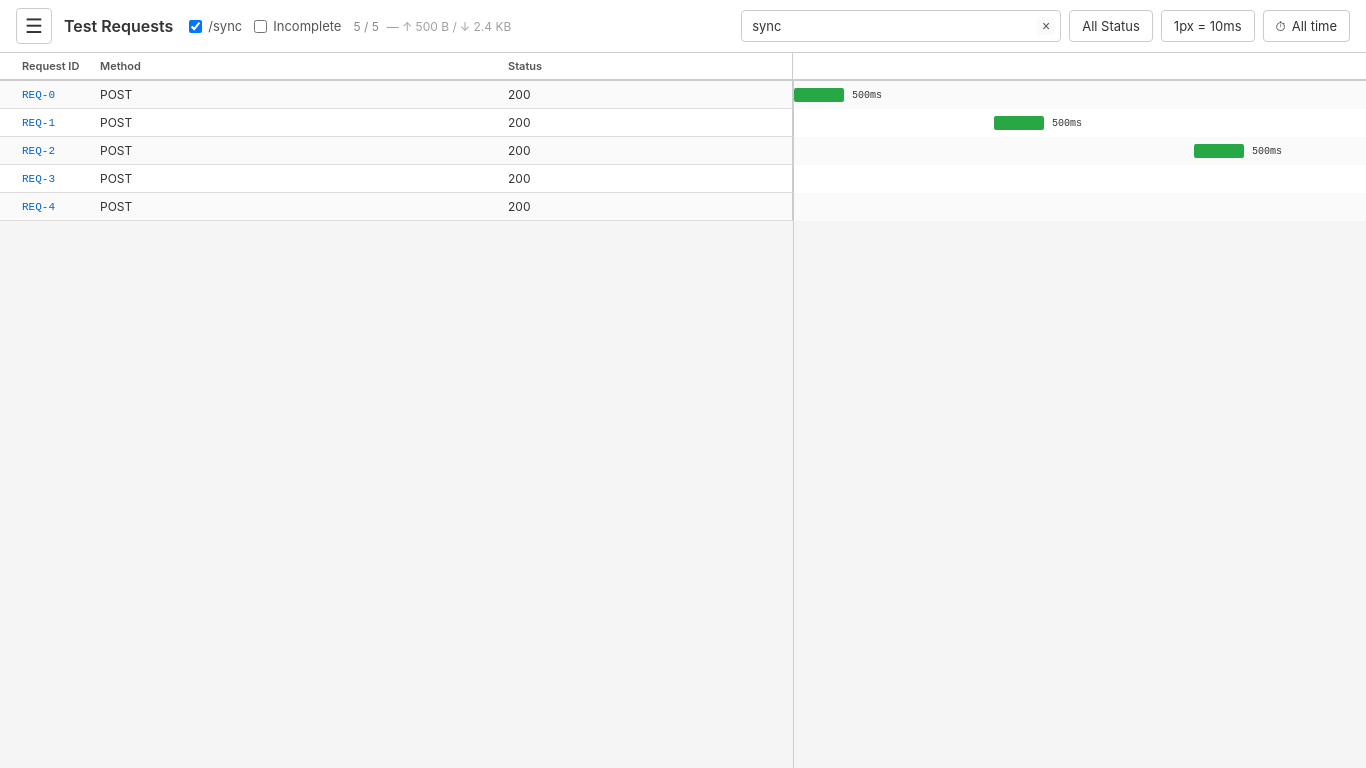
Scenario: RequestTable › URI Filter Value Sync › clears filter when SearchInput is cleared
Expected: the field with placeholder "Filter URI..." holds "sync", [741,10,1061,42]
Click clear button
Click the button named "Clear input": click(1046, 26) [1037,17,1055,35]
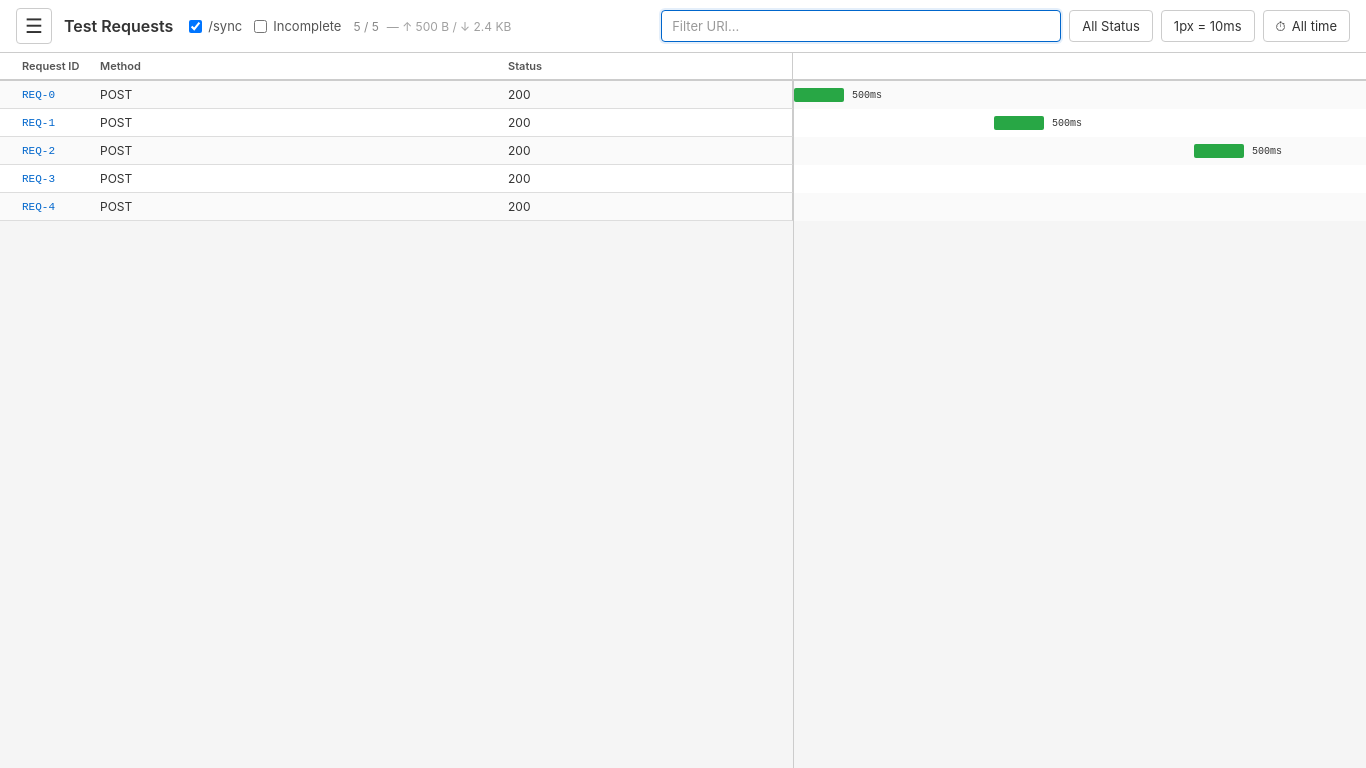
Expected: the field with placeholder "Filter URI..." is empty, [661,10,1061,42]
